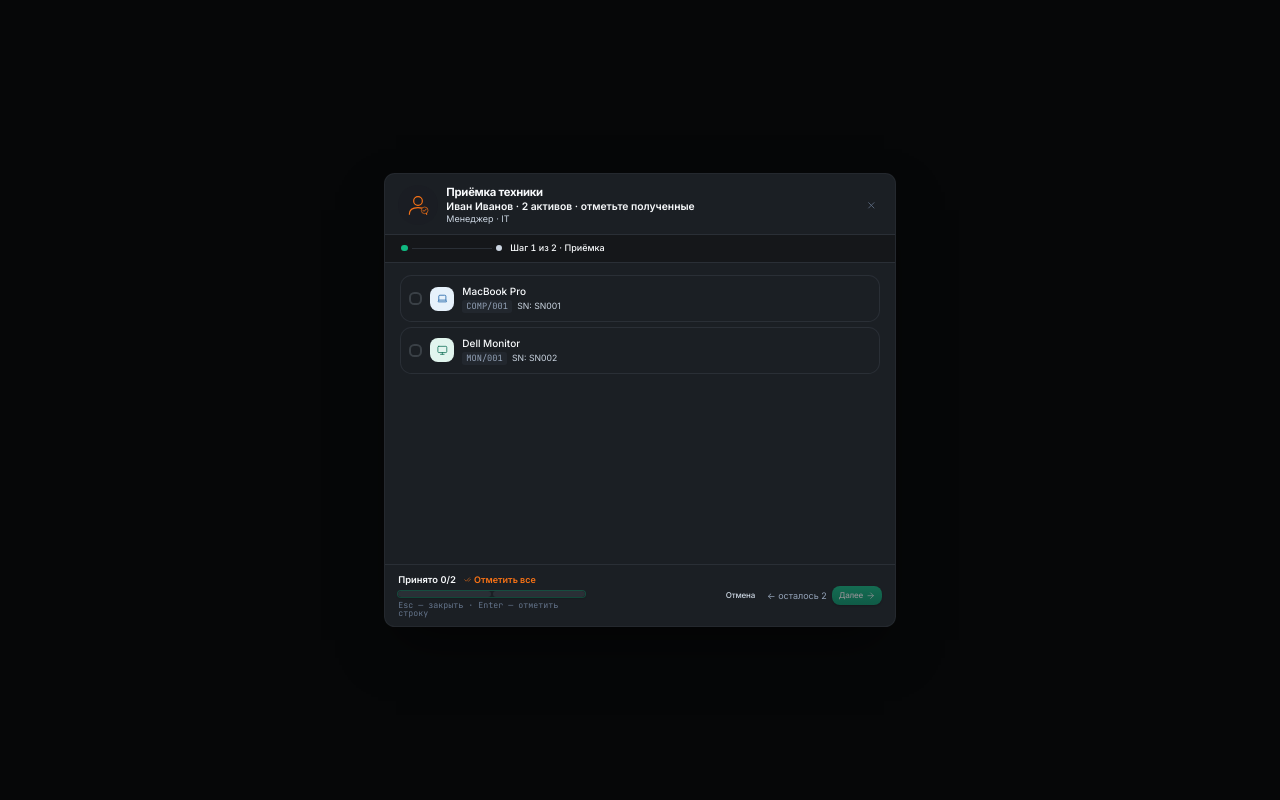
HandoverModal — step 1: receive › individually checking all rows enables Далее
This screenshot has width=1280, height=800.
Click the button with aria-label "Отметить как принят" at [494, 291], box [401, 276, 879, 321]
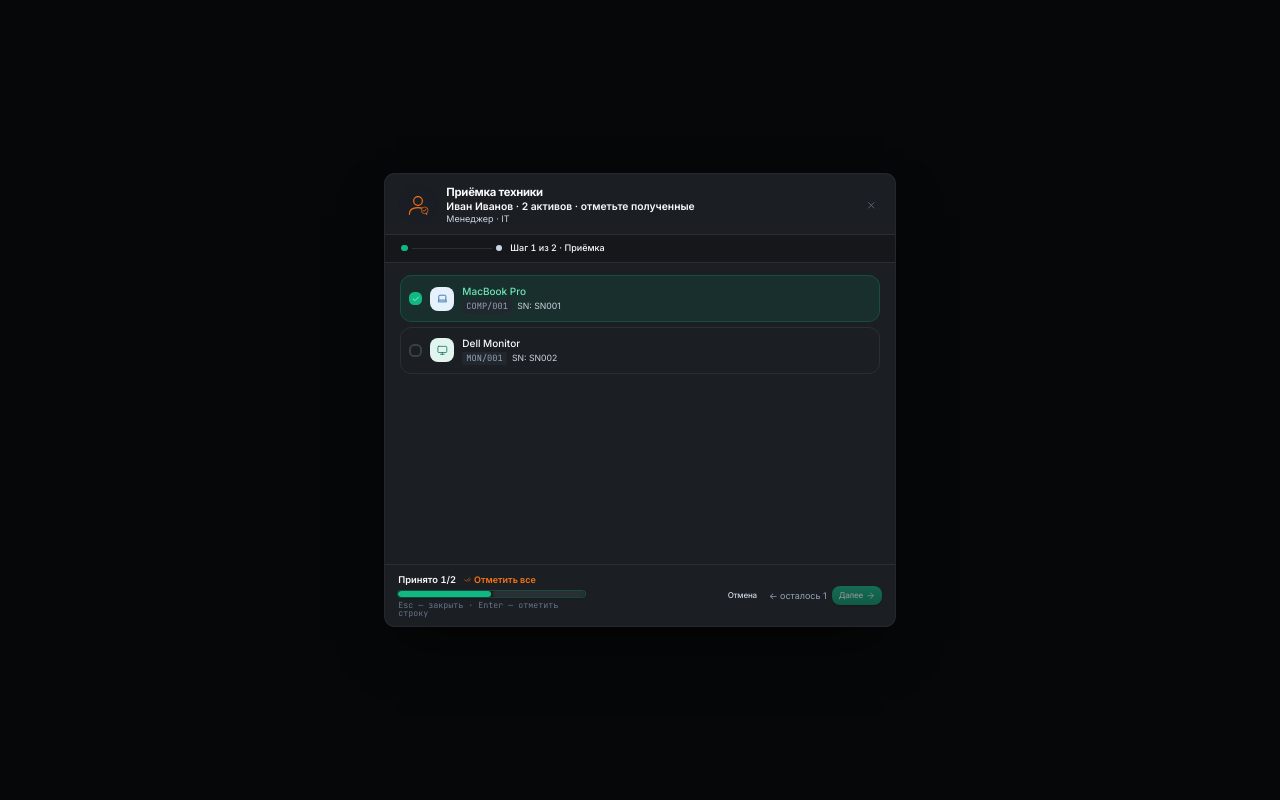
Click the button with aria-label "Отметить как принят" at [491, 343], box [401, 328, 879, 373]
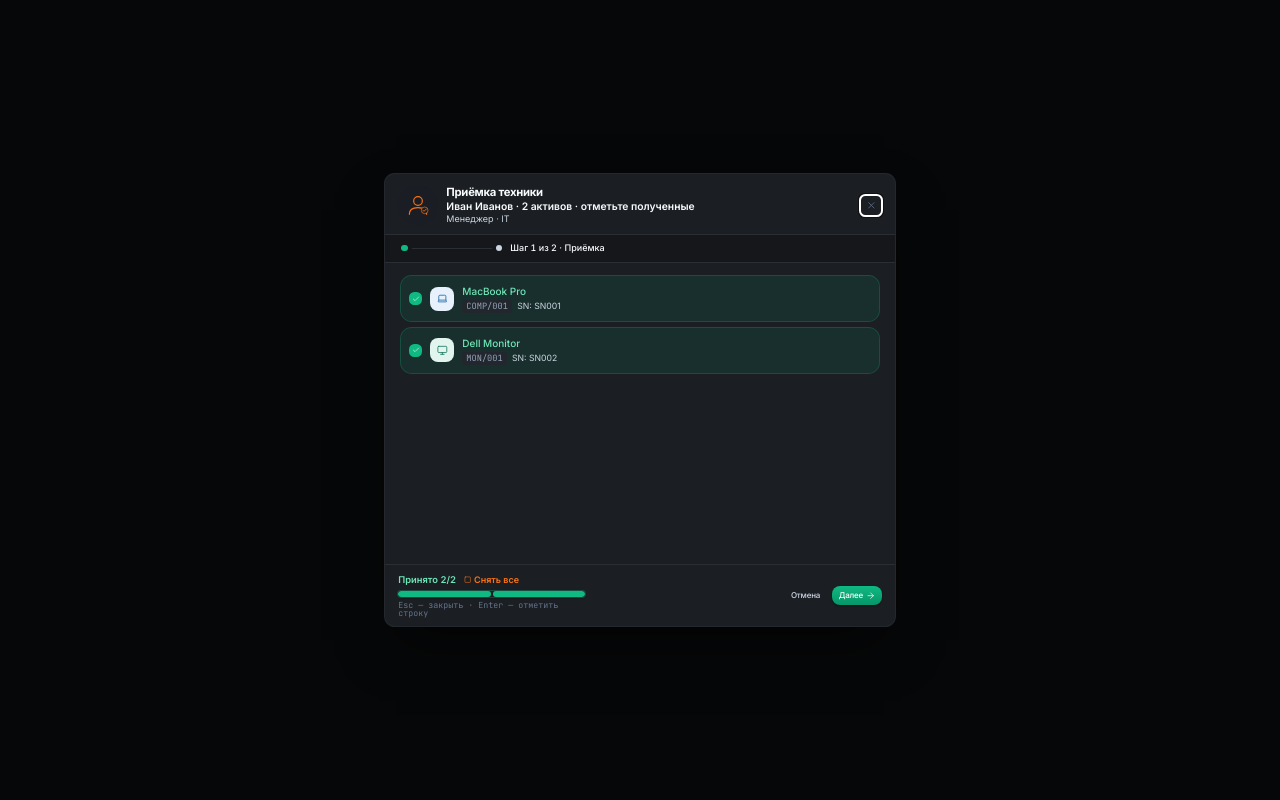
Check: the button "Далее" is enabled, box [832, 586, 882, 605]
